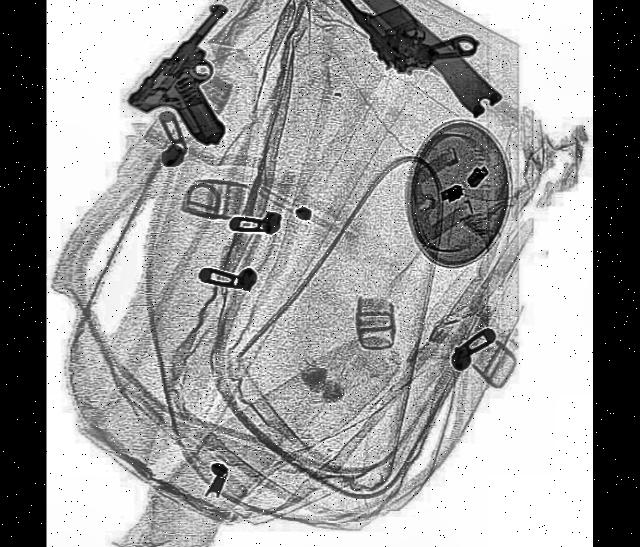Gun: (123, 0, 272, 179), (344, 0, 472, 117)
